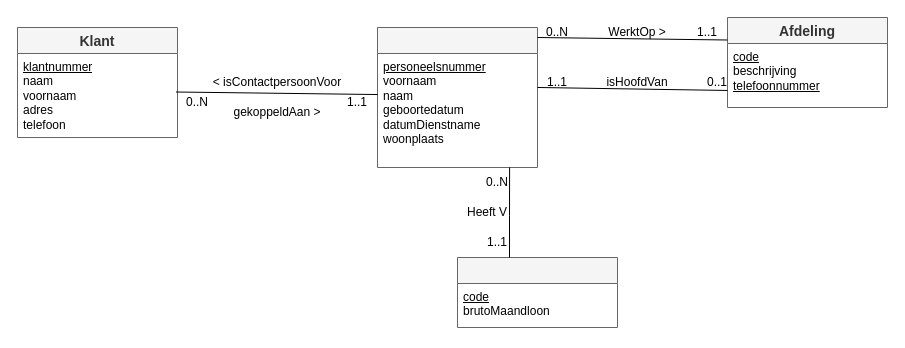
Image size: 905x348. Some labels were removed from this diagram. The box of each missing label's shape, as (x1, y1, x2, y2) in pixels:
Loonbarema: (456, 256, 618, 328)
Personeelslid: (376, 26, 538, 168)
